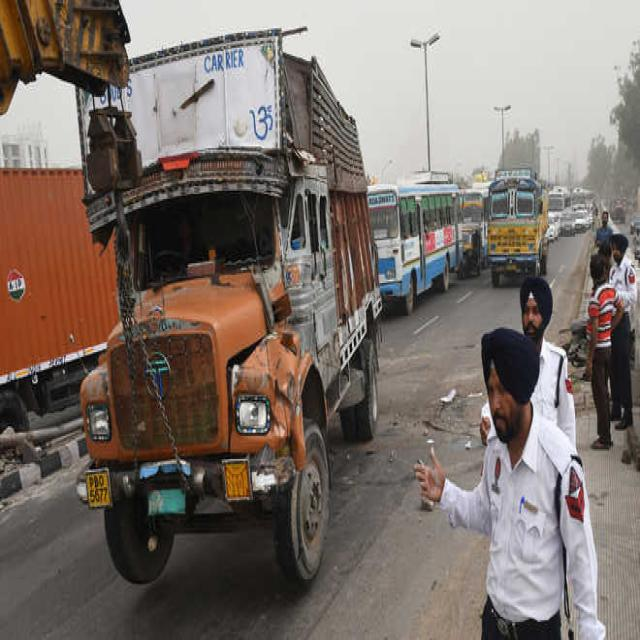accident: (79, 30, 380, 583)
bus: (368, 172, 462, 313)
truck: (489, 170, 548, 285)
